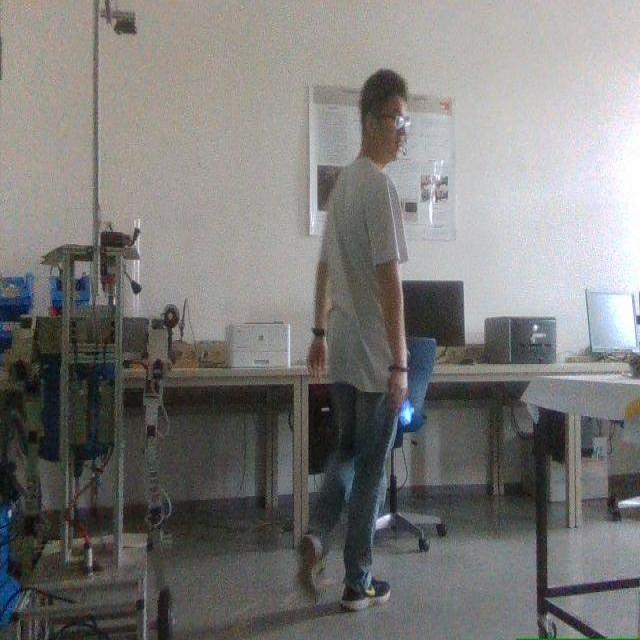humans: (301, 69, 409, 609)
objects: (376, 338, 445, 551)
